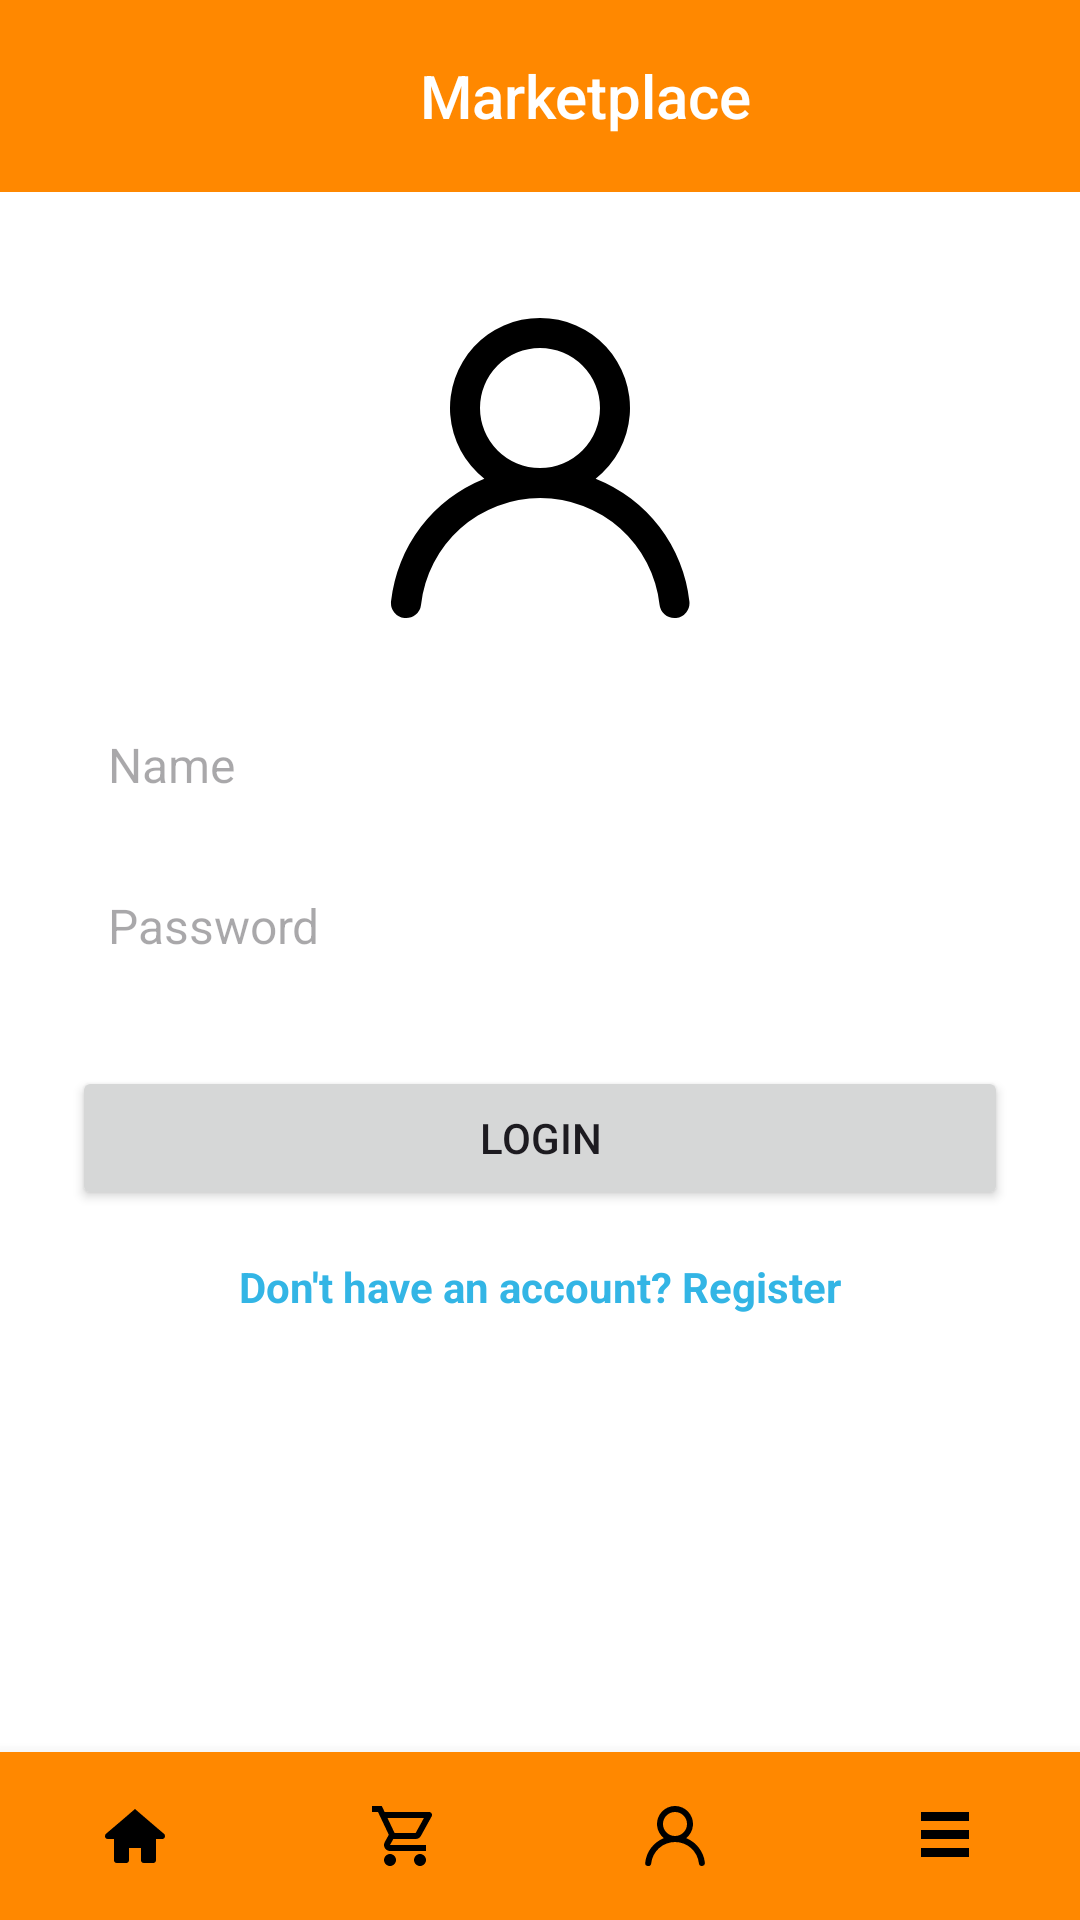

Named icons in this screenshot (1080px x 1920px) and their bounding boxes, detection(x1, y1, x2, y2):
custom login: detection(391, 318, 690, 618)
